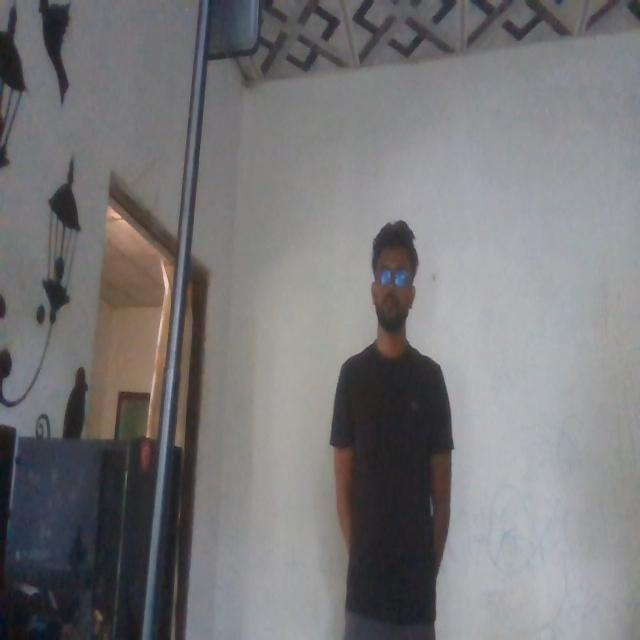Person: (327, 218, 461, 636)
